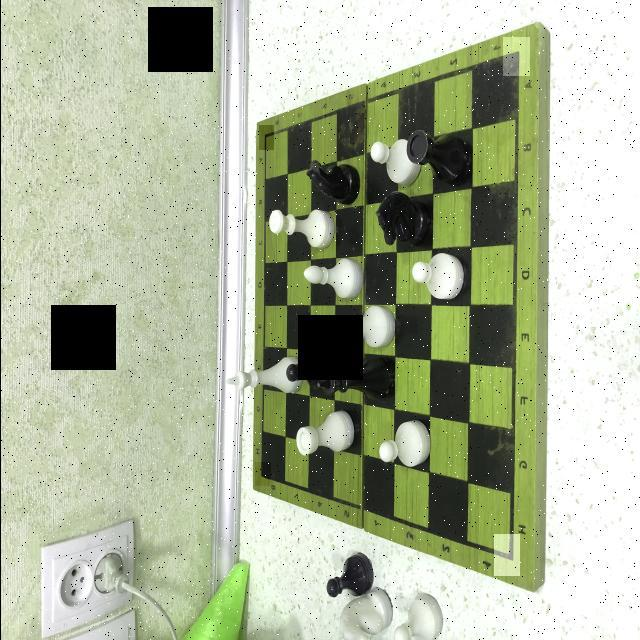chess-table-corners: (493, 534, 519, 576), (502, 37, 529, 76), (254, 462, 270, 486), (258, 125, 273, 150)
